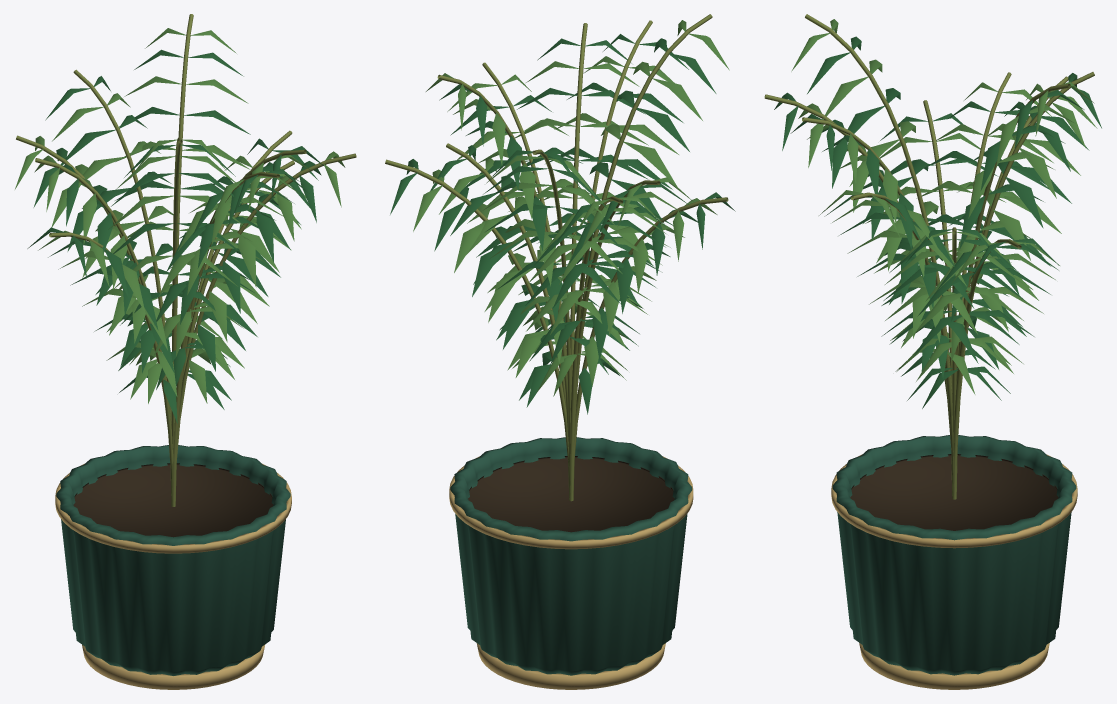
File: gjh-areca-planter.glb
3 views of the same model, side by side, from view 1: azimuth 30°, elevation 25°; view 2: azimuth 150°, elevation 25°; view 3: azimuth 270°, elevation 25° (orthographic). The views are drawn at different scales.
Parts seen in each view (by area): view 1: gjh-areca-planter; view 2: gjh-areca-planter; view 3: gjh-areca-planter.
Part boxes in pixels (bbox=[...]): gjh-areca-planter: bbox=[15, 14, 356, 689]; gjh-areca-planter: bbox=[385, 14, 735, 689]; gjh-areca-planter: bbox=[764, 14, 1101, 689].
Size of the model in its own units: 1.23 by 2.35 by 1.19.
